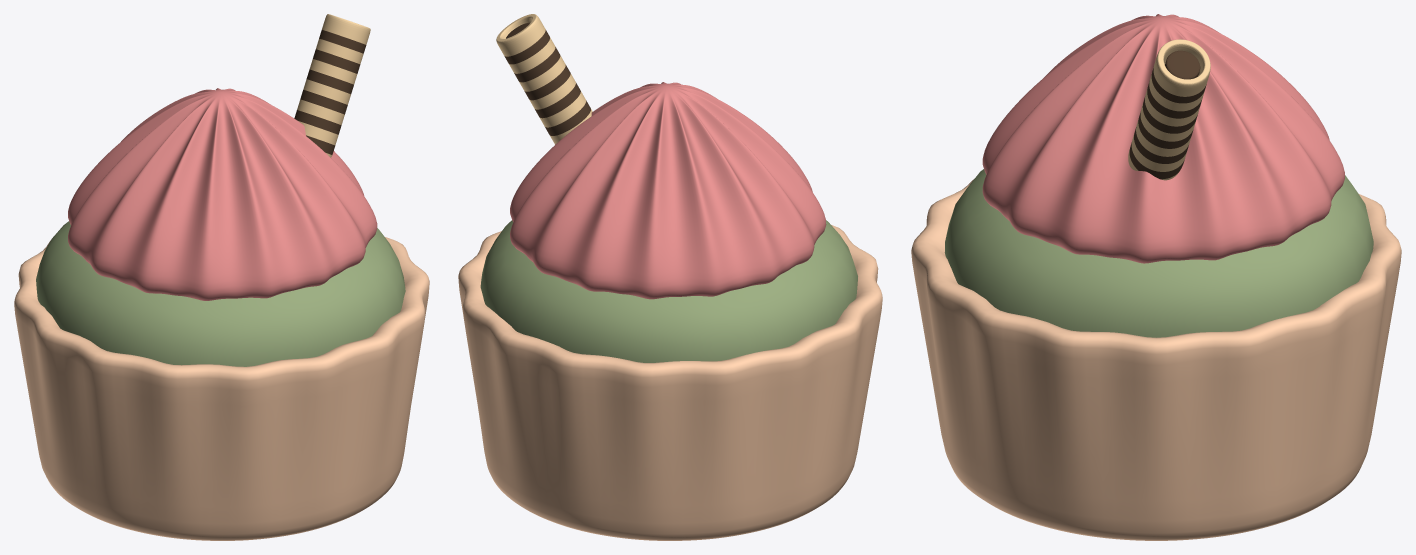
File: MatchaCupcake.fbx
3 renders of one model, left to right at view 1: azimuth 30°, elevation 25°; view 2: azimuth 150°, elevation 25°; view 3: azimuth 270°, elevation 25°, orthographic. The views are drawn at different scales.
Parts seen in each view (by area): view 1: MatchaCupcake-Wrapper, MatchaCupcake-StrawberryCream, MatchaCupcake, MatchaCupcake-WaferRolls; view 2: MatchaCupcake-Wrapper, MatchaCupcake-StrawberryCream, MatchaCupcake, MatchaCupcake-WaferRolls; view 3: MatchaCupcake-Wrapper, MatchaCupcake-StrawberryCream, MatchaCupcake, MatchaCupcake-WaferRolls.
Part boxes in pixels (x1=…): MatchaCupcake-Wrapper: x1=14, y1=237, x2=429, y2=540; MatchaCupcake-StrawberryCream: x1=68, y1=88, x2=377, y2=300; MatchaCupcake: x1=36, y1=221, x2=405, y2=366; MatchaCupcake-WaferRolls: x1=294, y1=14, x2=370, y2=157; MatchaCupcake-Wrapper: x1=458, y1=225, x2=882, y2=540; MatchaCupcake-StrawberryCream: x1=510, y1=82, x2=826, y2=299; MatchaCupcake: x1=480, y1=220, x2=857, y2=362; MatchaCupcake-WaferRolls: x1=496, y1=14, x2=592, y2=144; MatchaCupcake-Wrapper: x1=911, y1=179, x2=1401, y2=540; MatchaCupcake-StrawberryCream: x1=982, y1=14, x2=1344, y2=263; MatchaCupcake: x1=944, y1=169, x2=1373, y2=337; MatchaCupcake-WaferRolls: x1=1128, y1=39, x2=1210, y2=180.
Size of the model in its own units: 40.29 by 44.37 by 40.29.
